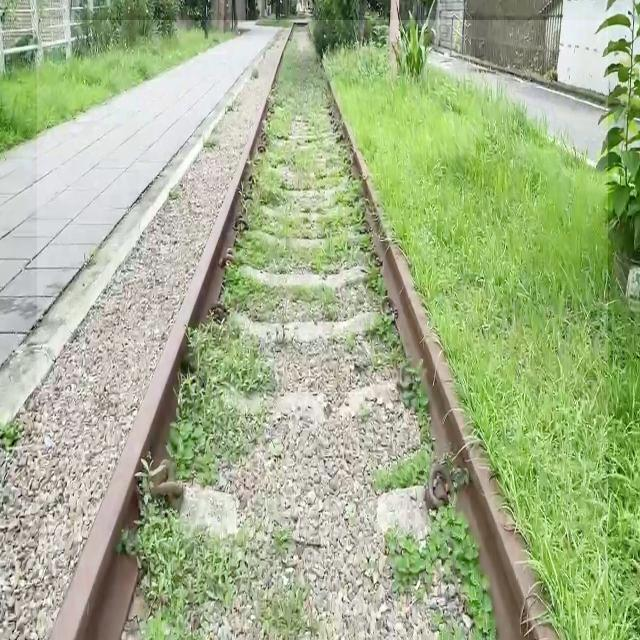rail: (39, 21, 609, 640)
